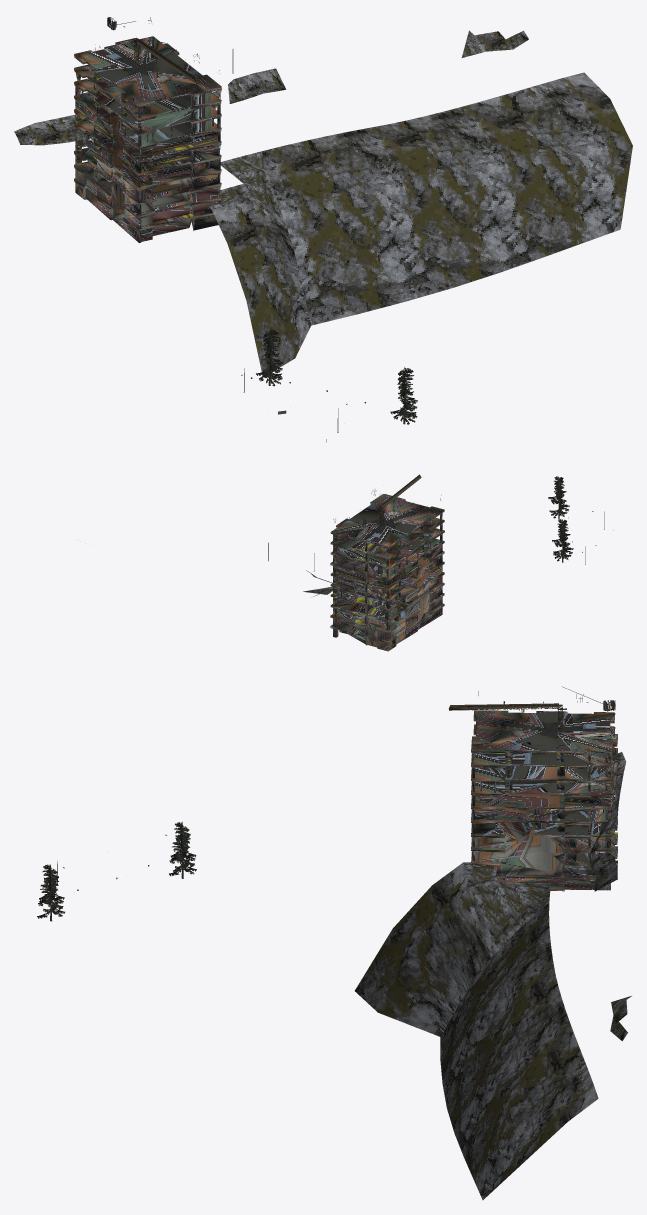
The model's file is world_camden_13_-4.gltf.
3 views of the same model, one above another, from view 1: azimuth 30°, elevation 25°; view 2: azimuth 150°, elevation 25°; view 3: azimuth 270°, elevation 25° (orthographic). The views are drawn at different scales.
Bounding box in the file's own units: 261 × 125 × 240.
10 materials, 10 textured.
